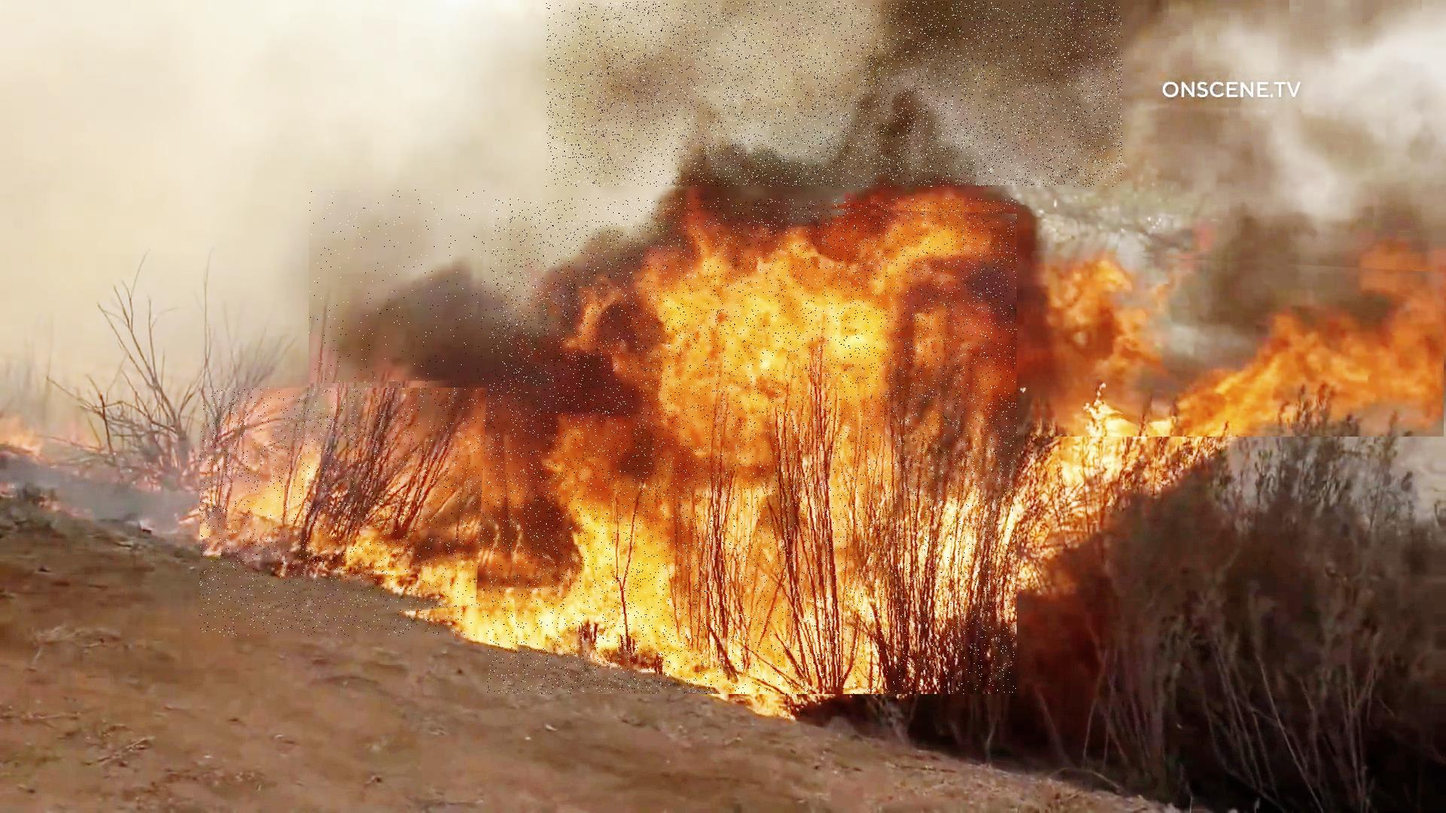fire: (487, 198, 1017, 694), (1031, 251, 1446, 437), (200, 388, 489, 637)
smoke: (546, 2, 1123, 187), (309, 190, 492, 386)
